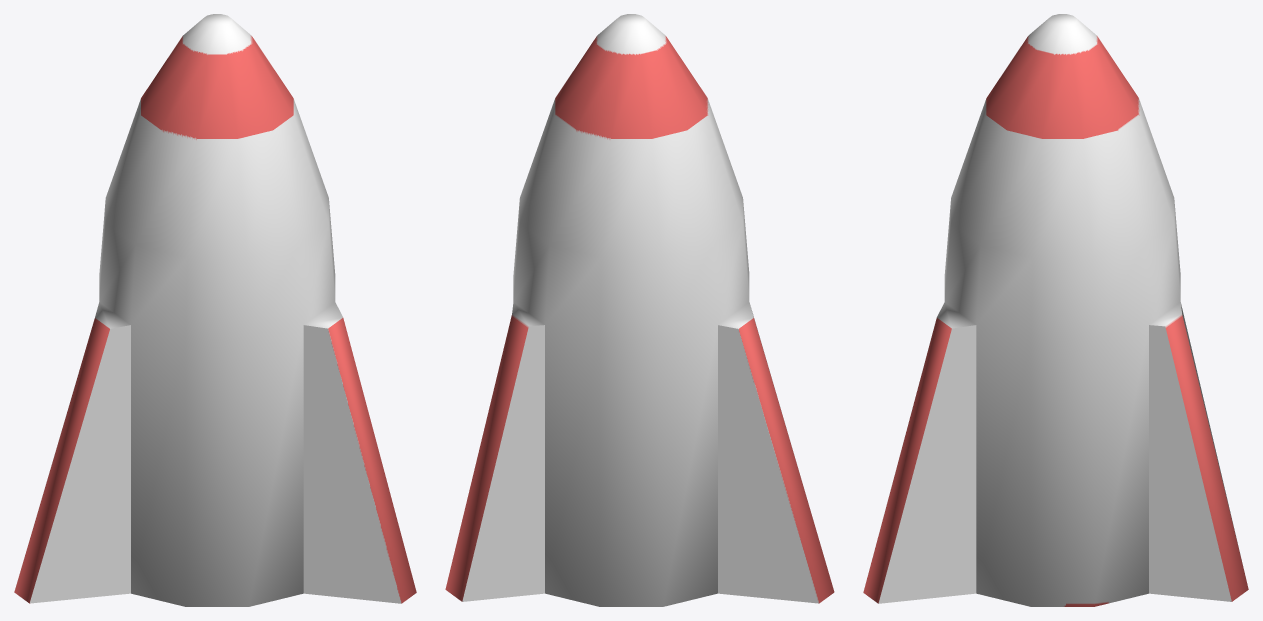
File: missile.glb
3 views of the same model, side by side, from view 1: azimuth 30°, elevation 25°; view 2: azimuth 150°, elevation 25°; view 3: azimuth 270°, elevation 25° (orthographic).
Parts seen in each view (by area): view 1: Missile; view 2: Missile; view 3: Missile.
Boxes of the visible parts, x1,y1,x2,y2 form: Missile: (14, 14, 416, 606); Missile: (445, 14, 834, 606); Missile: (863, 14, 1248, 606).
Bounding box in the file's own units: 2.86 × 4.85 × 3.16.
Materials: 1 (1 with a texture image).
